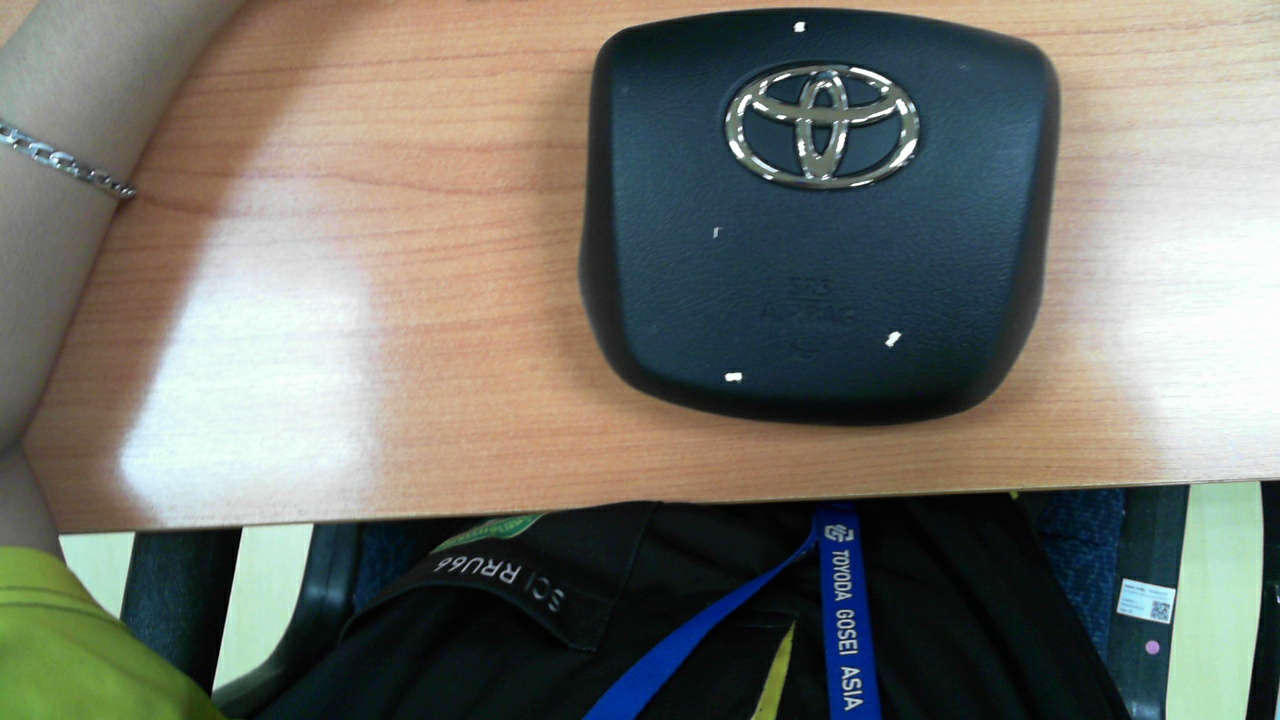Airbag: (576, 6, 1059, 428)
Mark: (885, 331, 902, 347), (724, 372, 743, 382), (793, 21, 807, 33), (713, 227, 719, 238)
